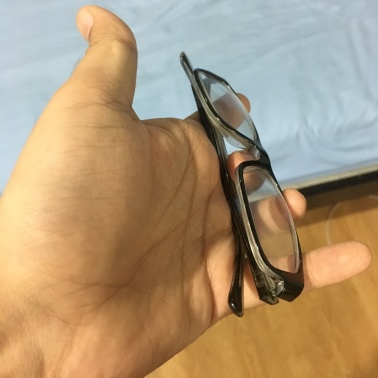glasses: (158, 57, 322, 320)
